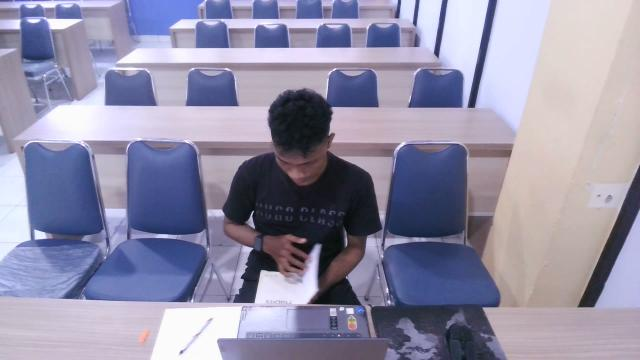Cheat_Sheet: (255, 254, 334, 302)
Head_Down_Extreme: (207, 79, 403, 326)
